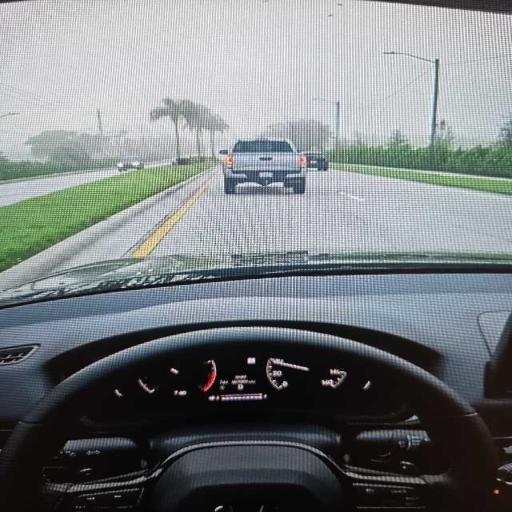car: (0, 0, 511, 511), (304, 153, 328, 171), (116, 160, 143, 171)
lane: (61, 170, 511, 269), (0, 168, 119, 207)
truck: (220, 139, 307, 194)
